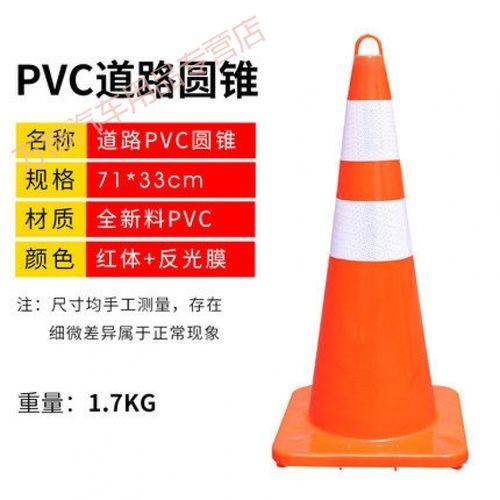cone_barrel: (293, 42, 446, 453)
